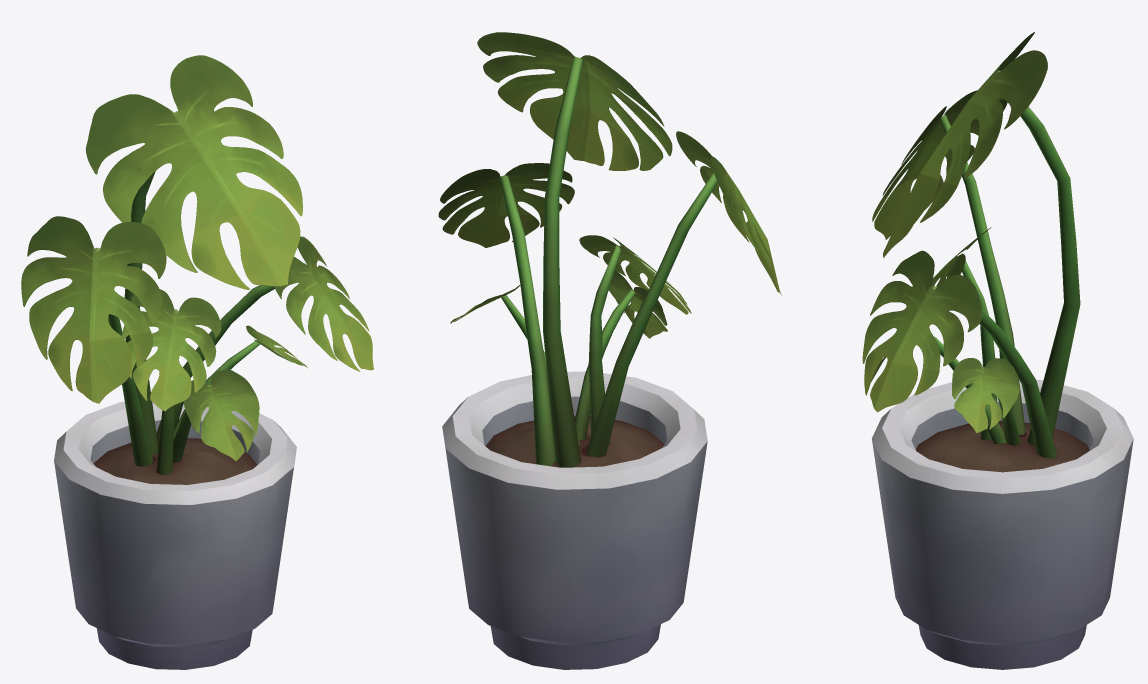
The model's file is MDL_Monstera.fbx.
3 views of the same model, side by side, from view 1: azimuth 30°, elevation 25°; view 2: azimuth 150°, elevation 25°; view 3: azimuth 270°, elevation 25° (orthographic). The views are drawn at different scales.
Parts seen in each view (by area): view 1: MDL_Monstera; view 2: MDL_Monstera; view 3: MDL_Monstera.
Boxes of the visible parts, box(x1,y1,x2,y2) form: MDL_Monstera: box(21, 55, 373, 669); MDL_Monstera: box(438, 32, 781, 669); MDL_Monstera: box(862, 32, 1133, 669).
Size of the model in its own units: 110 by 167 by 73.66.
